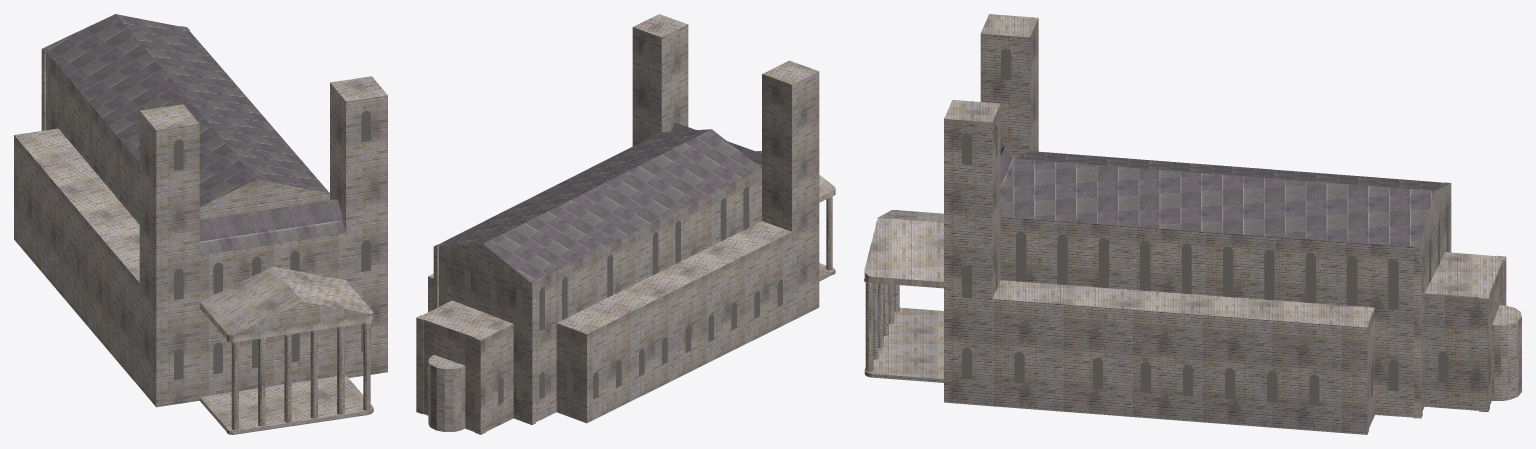
The model's file is saint-vincent-de-paul.glb.
3 views of the same model, side by side, from view 1: azimuth 30°, elevation 25°; view 2: azimuth 150°, elevation 25°; view 3: azimuth 270°, elevation 25° (orthographic). The views are drawn at different scales.
Parts seen in each view (by area): view 1: stone, roof, window, trim; view 2: stone, roof, window; view 3: stone, roof, window.
Part boxes in pixels (x1,y1,x2,y2): stone: (14,30,387,434); roof: (42,14,345,255); window: (17,68,370,379); trim: (199,302,373,343); stone: (416,14,835,434); roof: (434,122,761,283); window: (417,42,782,413); stone: (864,14,1521,434); roof: (1000,145,1450,247); window: (962,48,1490,405).
Size of the model in its own units: 46.65 by 45 by 94.52.
Materials: 4 (4 with a texture image).
